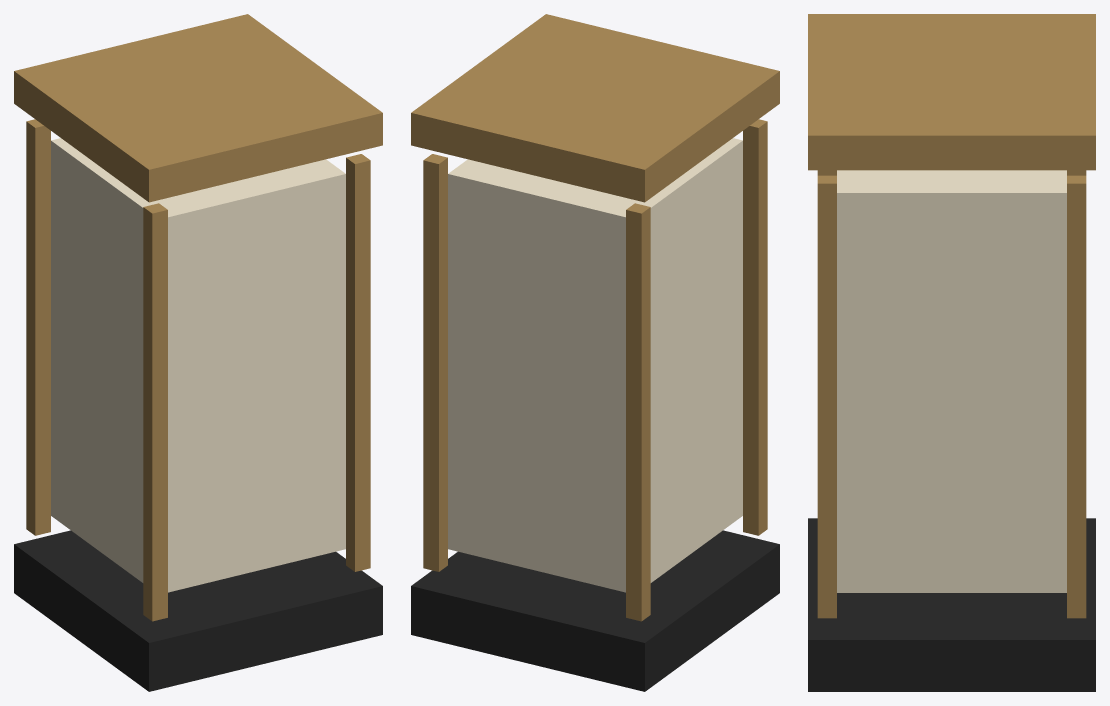
Rendered from lamp_deco.glb.
3 views of the same model, side by side, from view 1: azimuth 30°, elevation 25°; view 2: azimuth 150°, elevation 25°; view 3: azimuth 270°, elevation 25° (orthographic). The views are drawn at different scales.
Parts seen in each view (by area): view 1: lamp_deco; view 2: lamp_deco; view 3: lamp_deco.
Boxes of the visible parts, bbox=[...] form: lamp_deco: bbox=[14, 14, 382, 691]; lamp_deco: bbox=[411, 14, 779, 691]; lamp_deco: bbox=[808, 14, 1095, 691].
Size of the model in its own units: 0.3 by 0.64 by 0.3.
